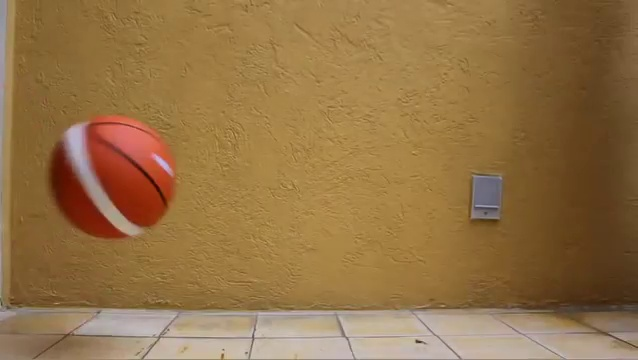ball: (48, 113, 178, 241)
